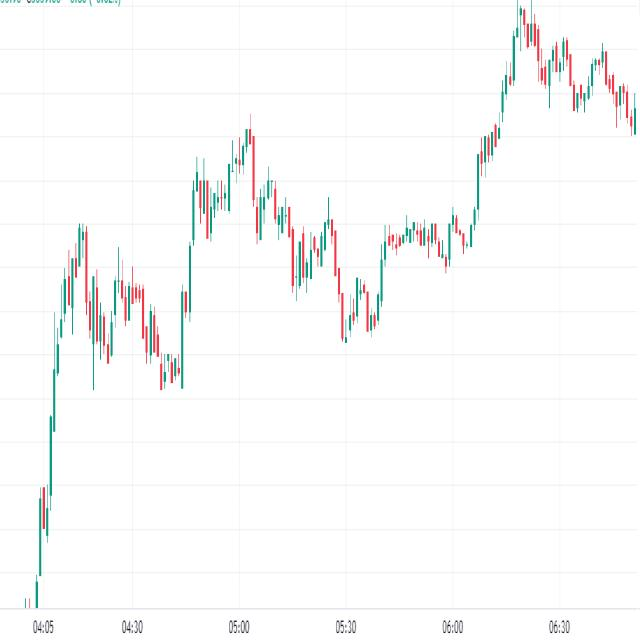Double-Bottom: (332, 248, 392, 351)
Falling-Wedge: (36, 186, 186, 403)
